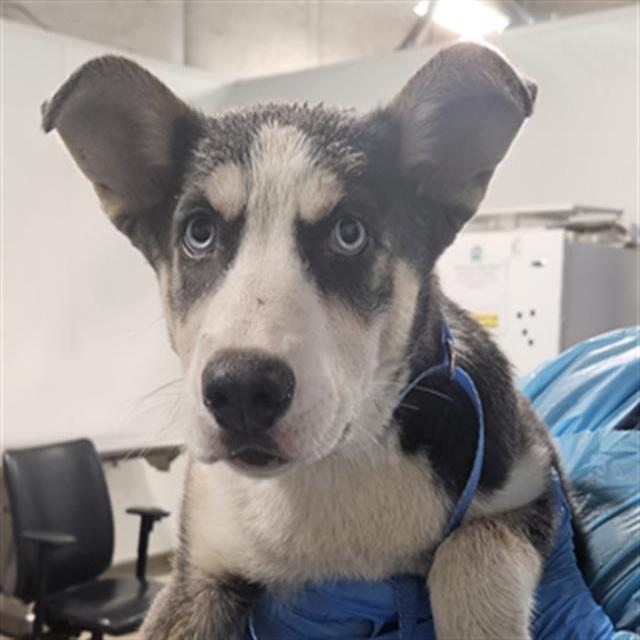siberian_husky_dog: (32, 22, 559, 499)
